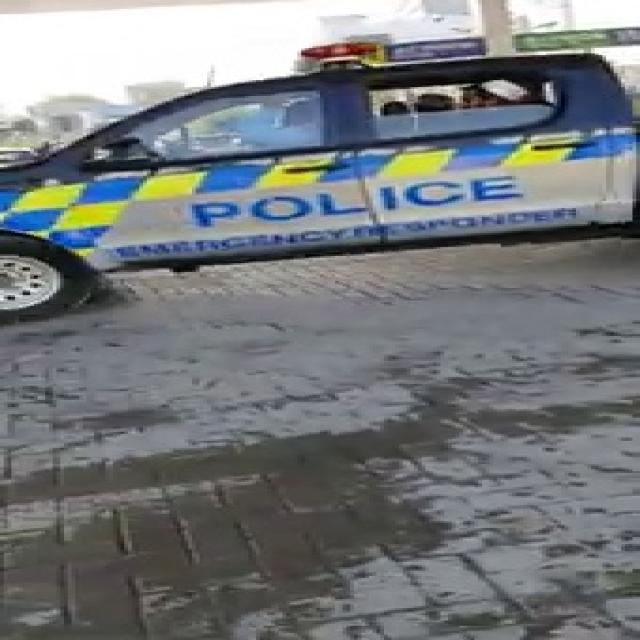police: (10, 15, 625, 253)
